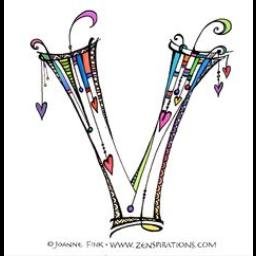v: (26, 32, 232, 226)
